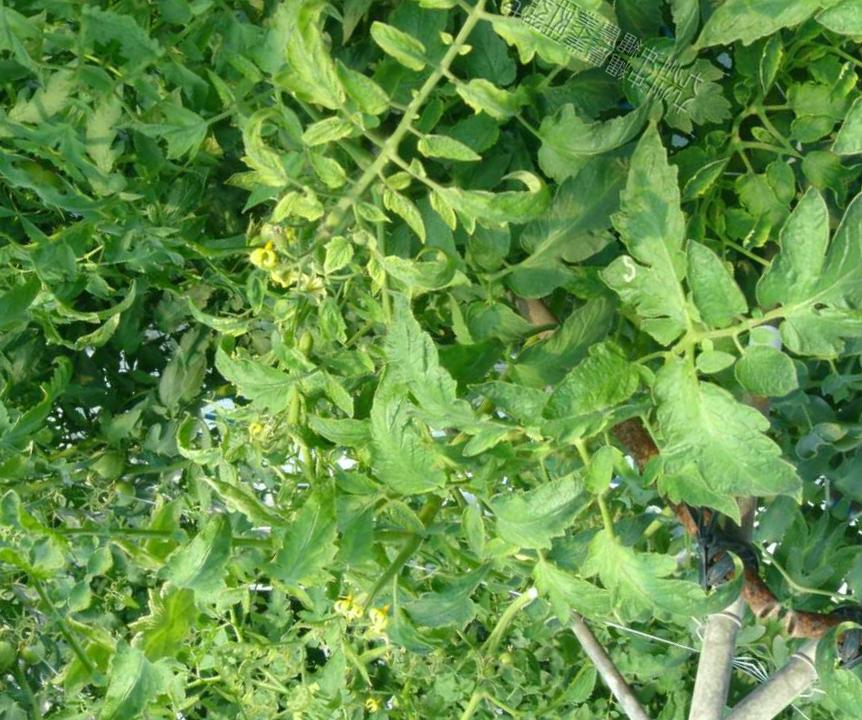Tomato leaf yellow virus: (550, 107, 772, 345), (603, 338, 814, 529), (331, 271, 530, 446), (726, 167, 862, 414), (555, 513, 759, 673), (318, 360, 484, 512), (246, 452, 382, 608), (498, 539, 657, 660), (421, 135, 559, 270), (243, 0, 393, 116), (486, 0, 617, 98), (192, 328, 309, 428), (210, 91, 315, 200), (311, 41, 415, 135), (438, 50, 538, 139), (403, 108, 492, 188), (353, 7, 443, 78), (299, 218, 366, 286), (339, 0, 470, 30)
